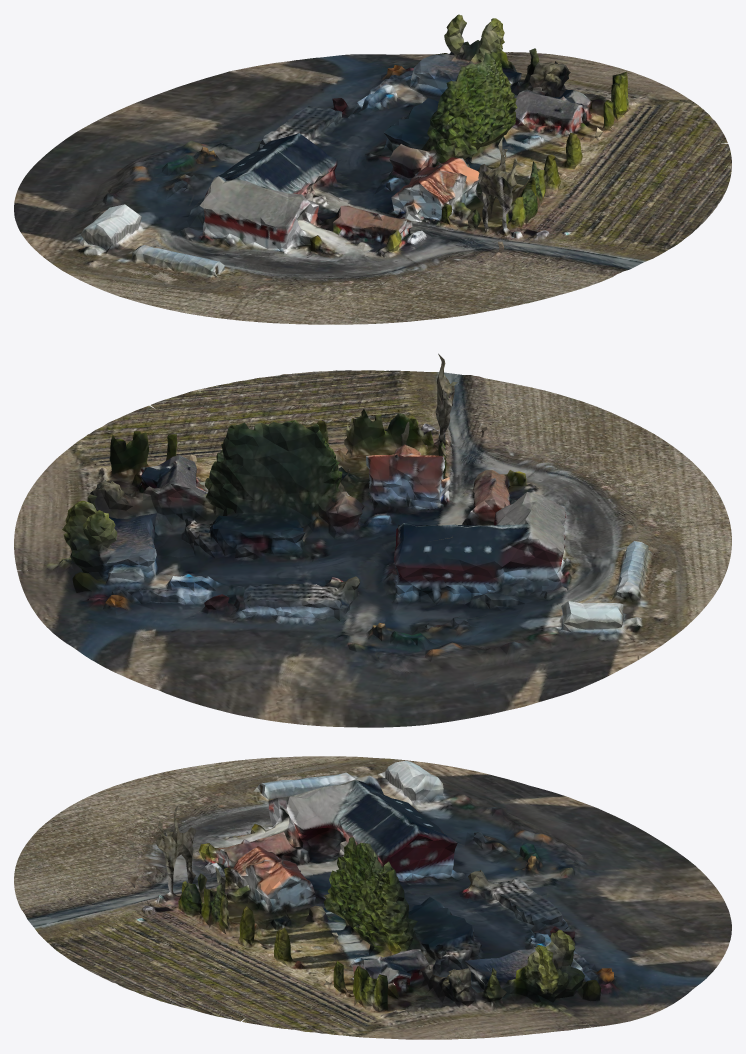
Rendered from meen-gard-profile.glb.
3 renders of one model, top to bottom at view 1: azimuth 30°, elevation 25°; view 2: azimuth 150°, elevation 25°; view 3: azimuth 270°, elevation 25°, orthographic.
Bounding box in the file's own units: 0.699 × 0.1545 × 0.699.
Materials: 1 (1 with a texture image).
